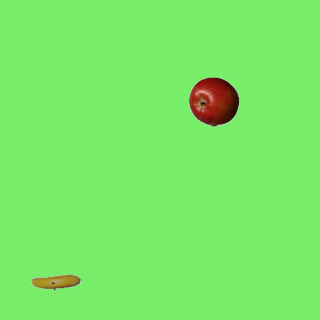Apple Braeburn: (188, 76, 238, 126)
Banana: (30, 257, 80, 307)
